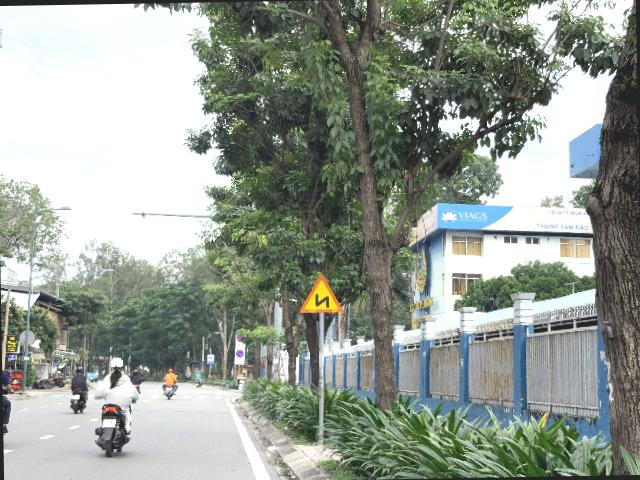nhieu-cho-ngoat-nguy-hiem-lien-tiep: (300, 274, 344, 314)
